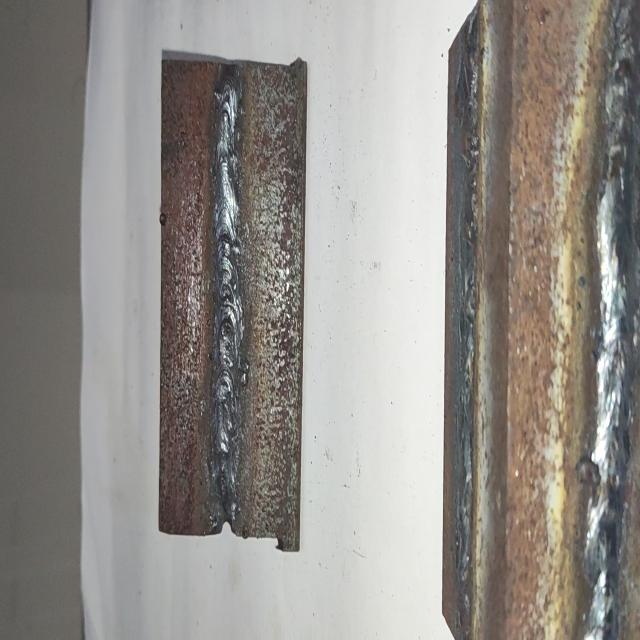Defect: (456, 29, 476, 632)
Welding Line: (590, 4, 639, 640), (216, 69, 242, 520)
Workpiece: (445, 0, 640, 640), (158, 54, 308, 559)
